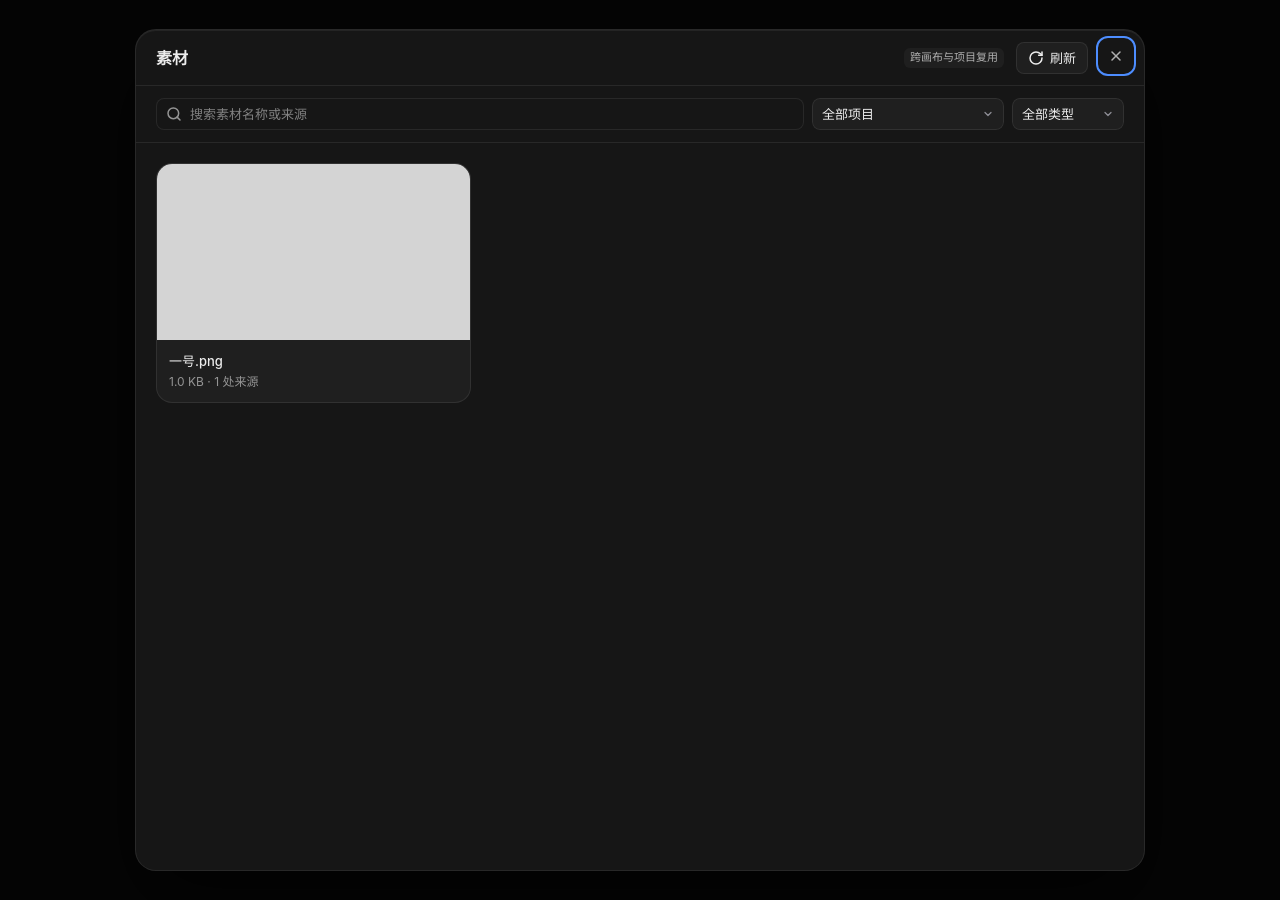
Test case: 素材面板的来源 › 来源分页游标失效时说明要重新读取来源，重试回到首页
Click the button with aria-label "查看素材 一号.png". click: (313, 283)
box: [156, 163, 471, 403]
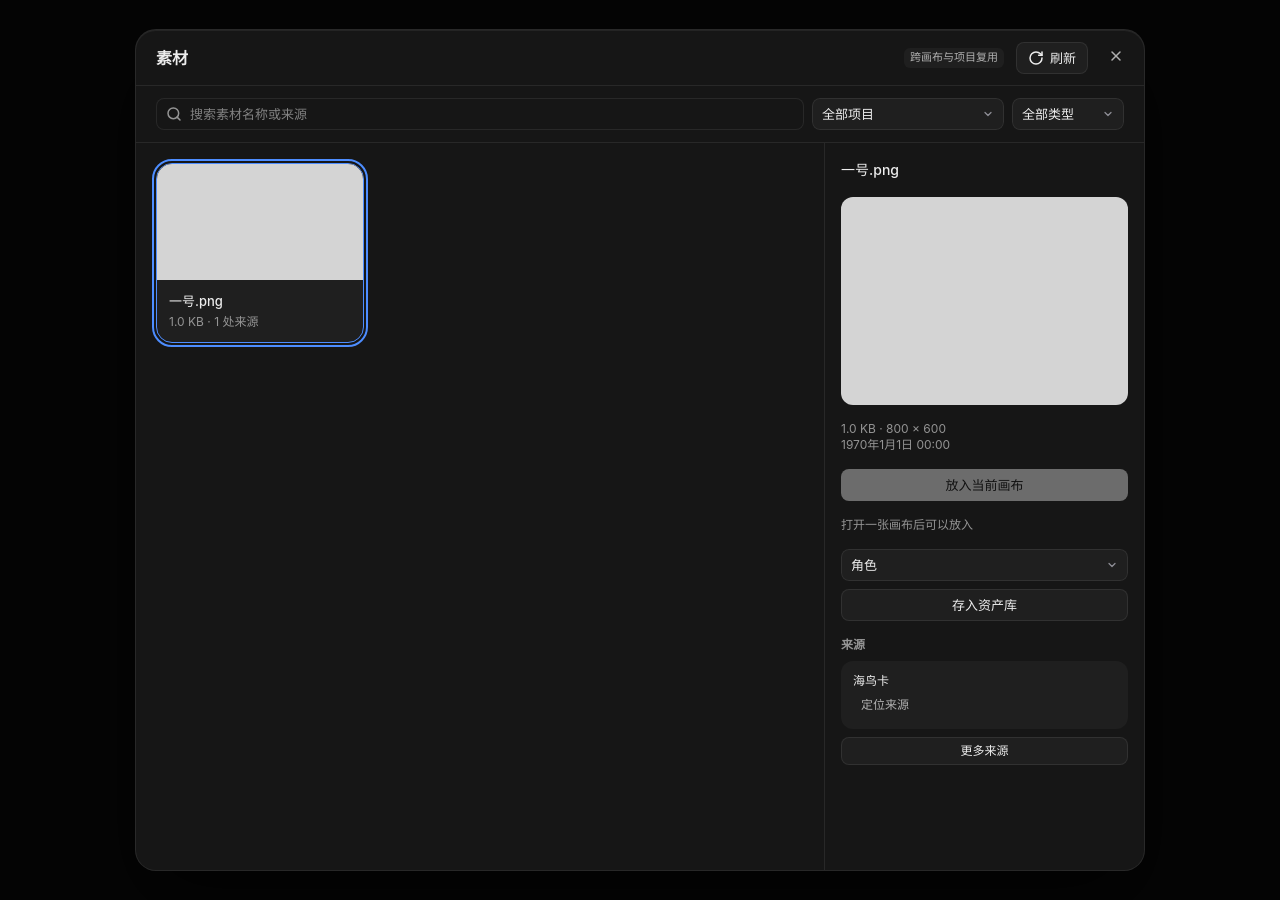
Click the button "更多来源". click: (984, 751)
box: [841, 737, 1128, 765]
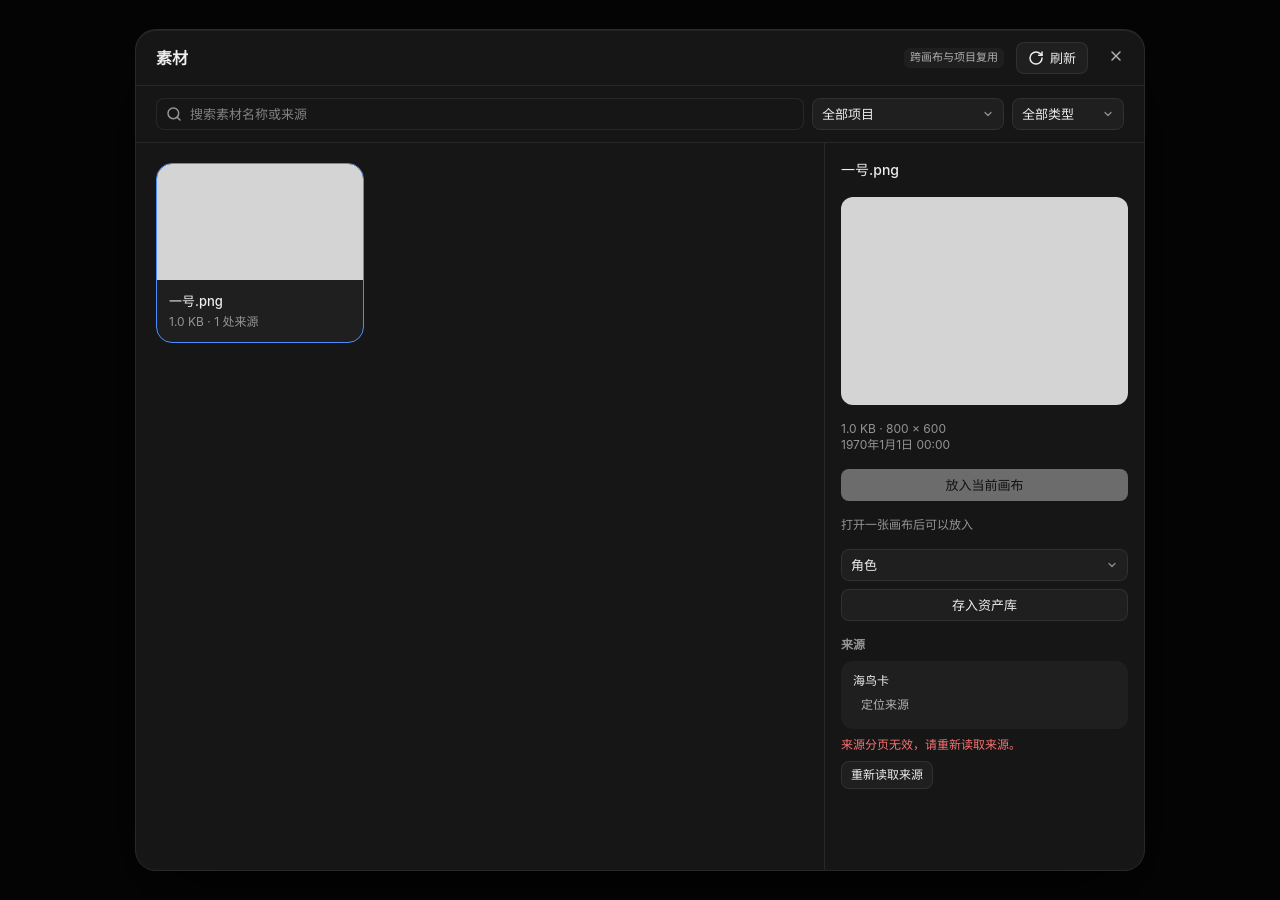
Expected: the text "来源分页无效，请重新读取来源。" is shown, [841, 737, 1021, 753]
Click the button "重新读取来源". click: (887, 775)
box: [841, 761, 933, 789]
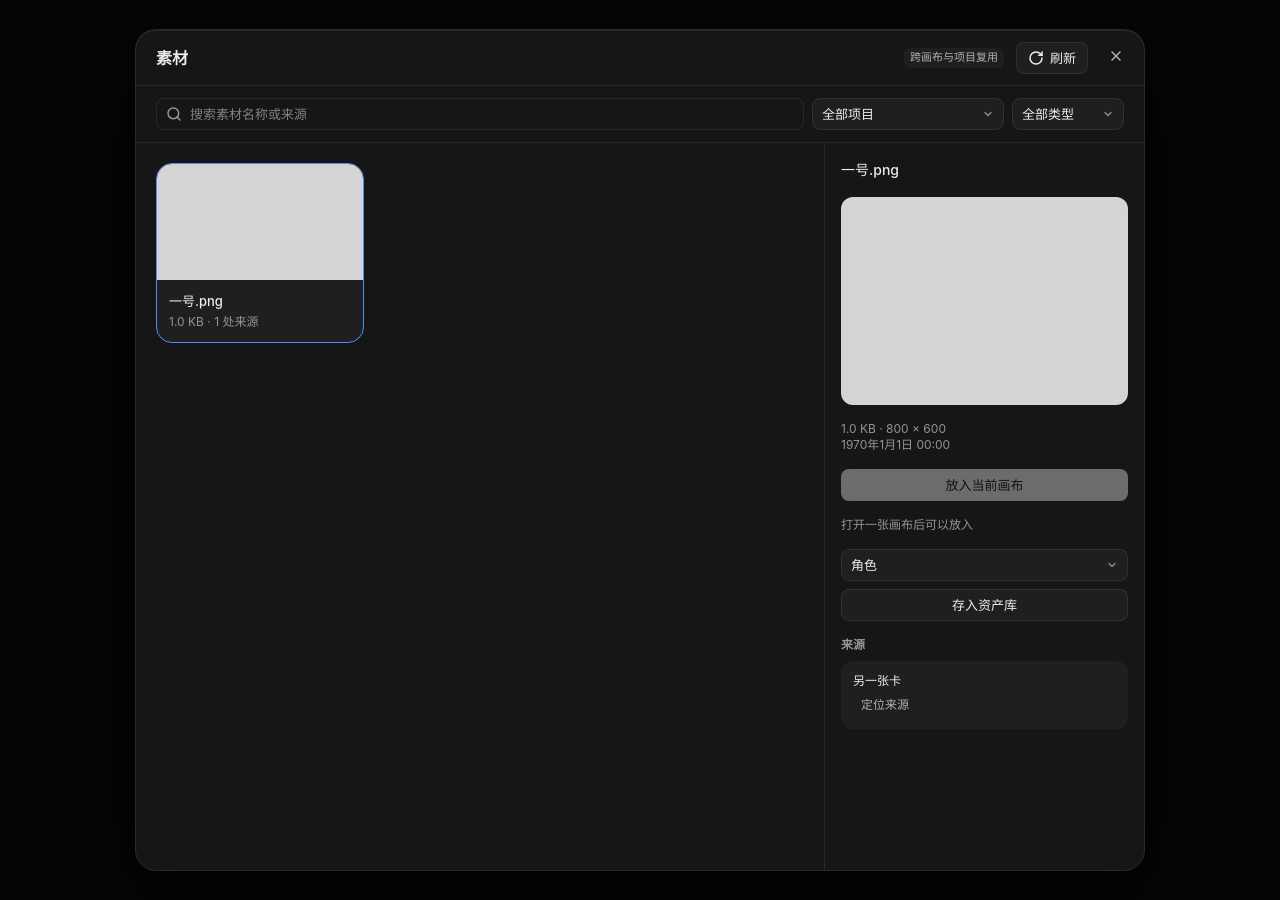
Expected: the text "另一张卡" is shown, [853, 673, 901, 688]
